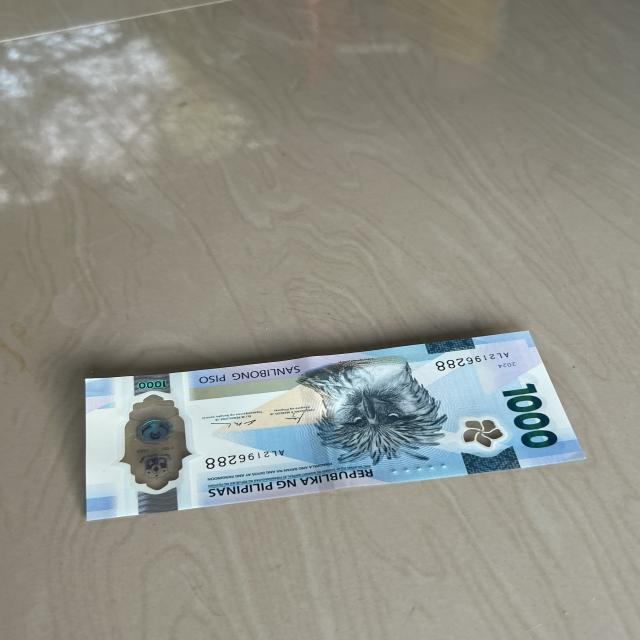clear_window: (118, 393, 187, 489)
eagle: (298, 368, 443, 468)
sampaguita: (457, 418, 502, 448)
